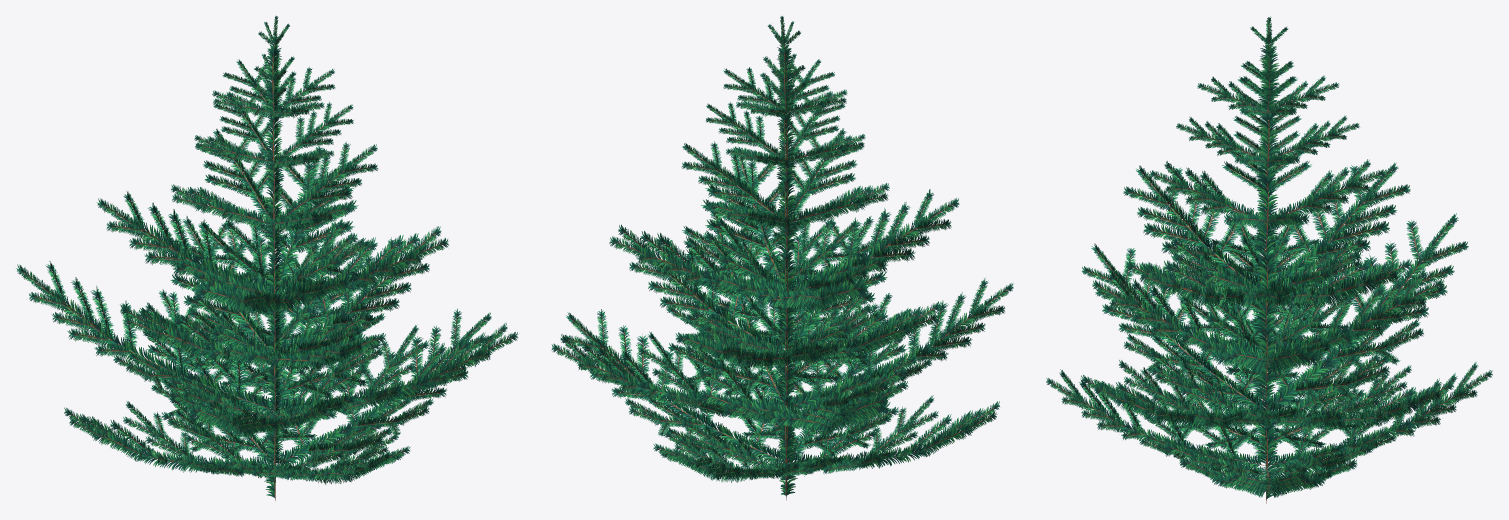
The model's file is treePine1.glb.
3 views of the same model, side by side, from view 1: azimuth 30°, elevation 25°; view 2: azimuth 150°, elevation 25°; view 3: azimuth 270°, elevation 25° (orthographic).
Visible parts, largest first — view 1: Pine; view 2: Pine; view 3: Pine.
Boxes of the visible parts, x1=… form: Pine: x1=16, y1=16, x2=517, y2=500; Pine: x1=551, y1=16, x2=1013, y2=500; Pine: x1=1046, y1=16, x2=1492, y2=503.
Size of what is drawn, in the model's own units: 14.47 by 15.74 by 13.05.
Materials: 1 (1 with a texture image).
